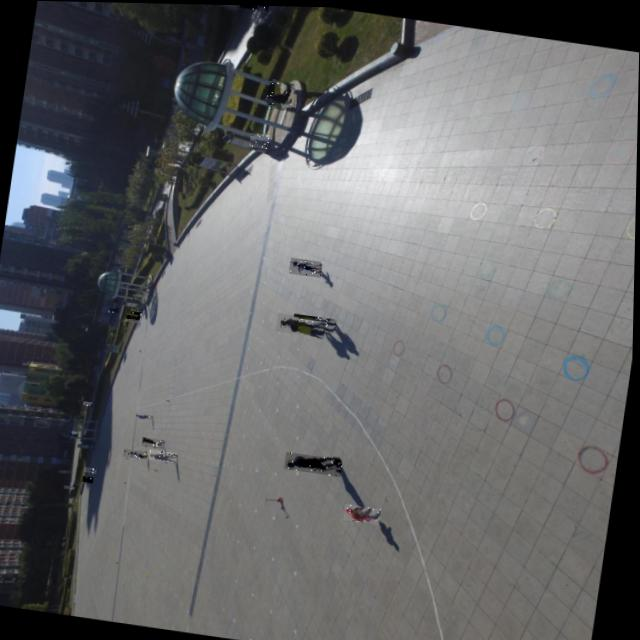Person: (285, 449, 345, 474), (276, 310, 328, 335), (293, 311, 338, 330), (266, 77, 295, 106), (345, 501, 383, 522), (290, 255, 324, 275), (150, 447, 179, 461), (249, 130, 270, 146), (144, 435, 169, 448), (125, 446, 150, 458), (238, 4, 269, 9), (126, 315, 140, 322), (127, 312, 141, 319), (137, 411, 153, 417), (84, 474, 96, 481), (133, 292, 145, 299), (86, 466, 99, 472), (109, 305, 120, 311), (132, 309, 143, 314), (84, 400, 94, 405), (66, 484, 77, 488), (72, 431, 80, 435), (73, 429, 80, 433)
